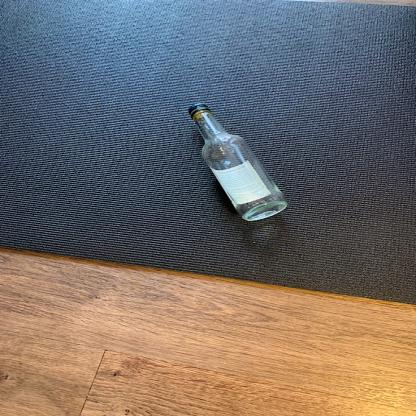trash: (186, 98, 291, 226)
